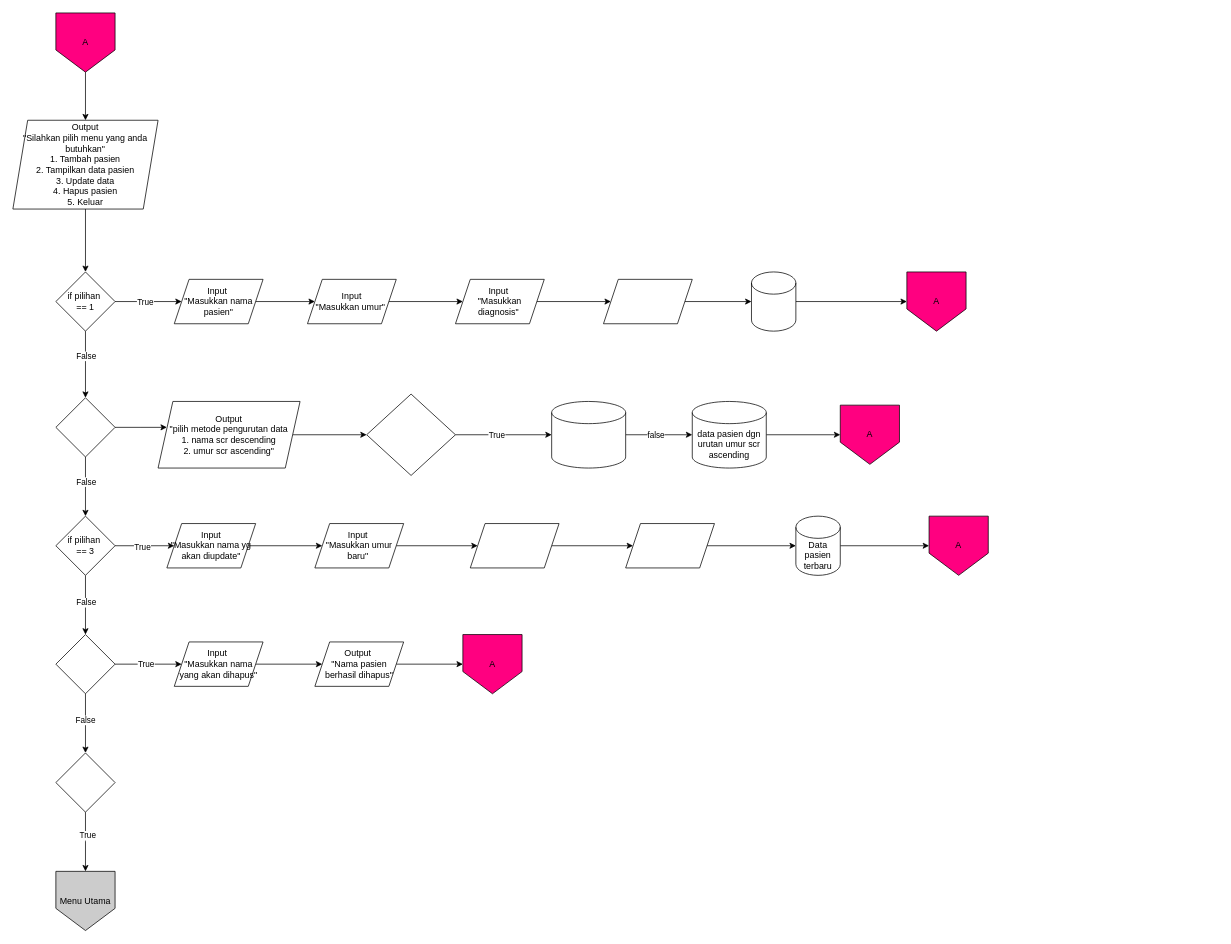
Image size: 1231x944. Some labels were removed from this diagram. Here are the shapes that lost their labels. From the top down, the centre of each, then its label:
(647,301): Input "Masukkan riwayat obat sebelumnya"
(773,301): Data pasien
(85,427): if pilihan == 2
(410,434): if pilihan == 1 (descending)
(588,434): data pasien dgn urutan nama scr descending
(514,545): Input "Masukkan diagnosis baru "
(669,545): Input "Masukkan riwayat obat baru"
(85,664): if pilihan == 4
(85,782): if pilihan == 5
